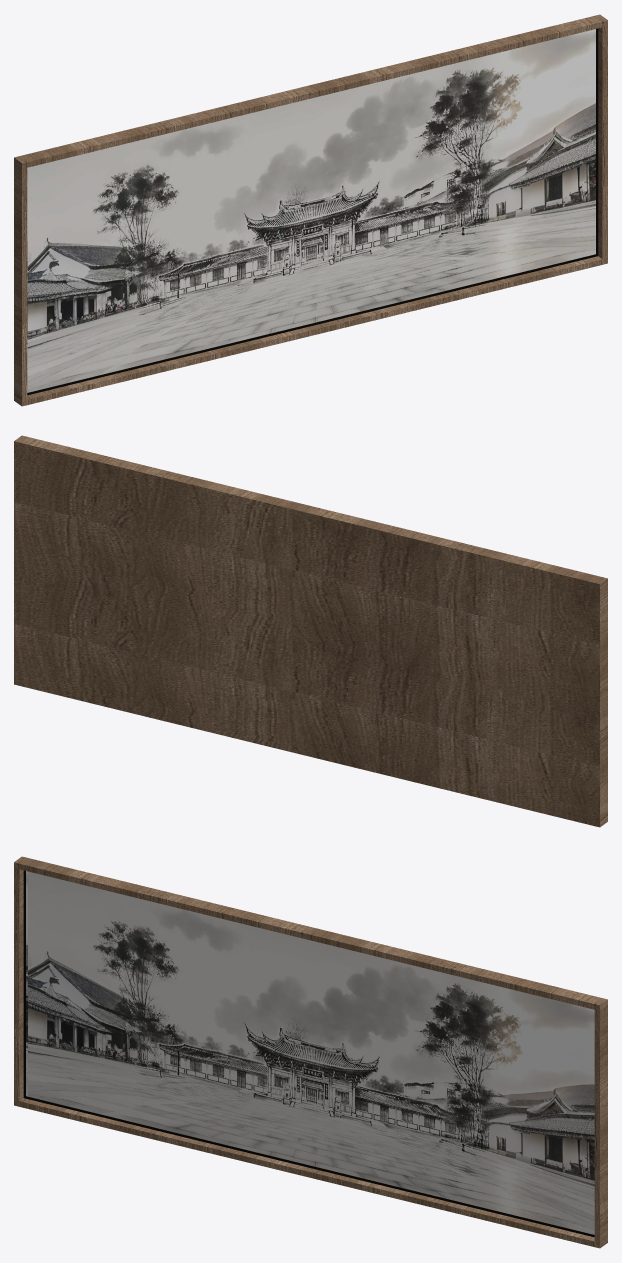
The picture shows the model from 3 angles, top to bottom: view 1: azimuth 30°, elevation 25°; view 2: azimuth 150°, elevation 25°; view 3: azimuth 330°, elevation 25°; orthographic projection.
Visible parts, largest first — view 1: LC-画照; view 2: LC-画照; view 3: LC-画照.
Boxes of the visible parts, x1,y1,x2,y2 form: LC-画照: [14, 14, 607, 406]; LC-画照: [14, 435, 607, 827]; LC-画照: [14, 856, 607, 1248].
Size of the model in its own units: 2.01 by 0.0475 by 0.7984.
